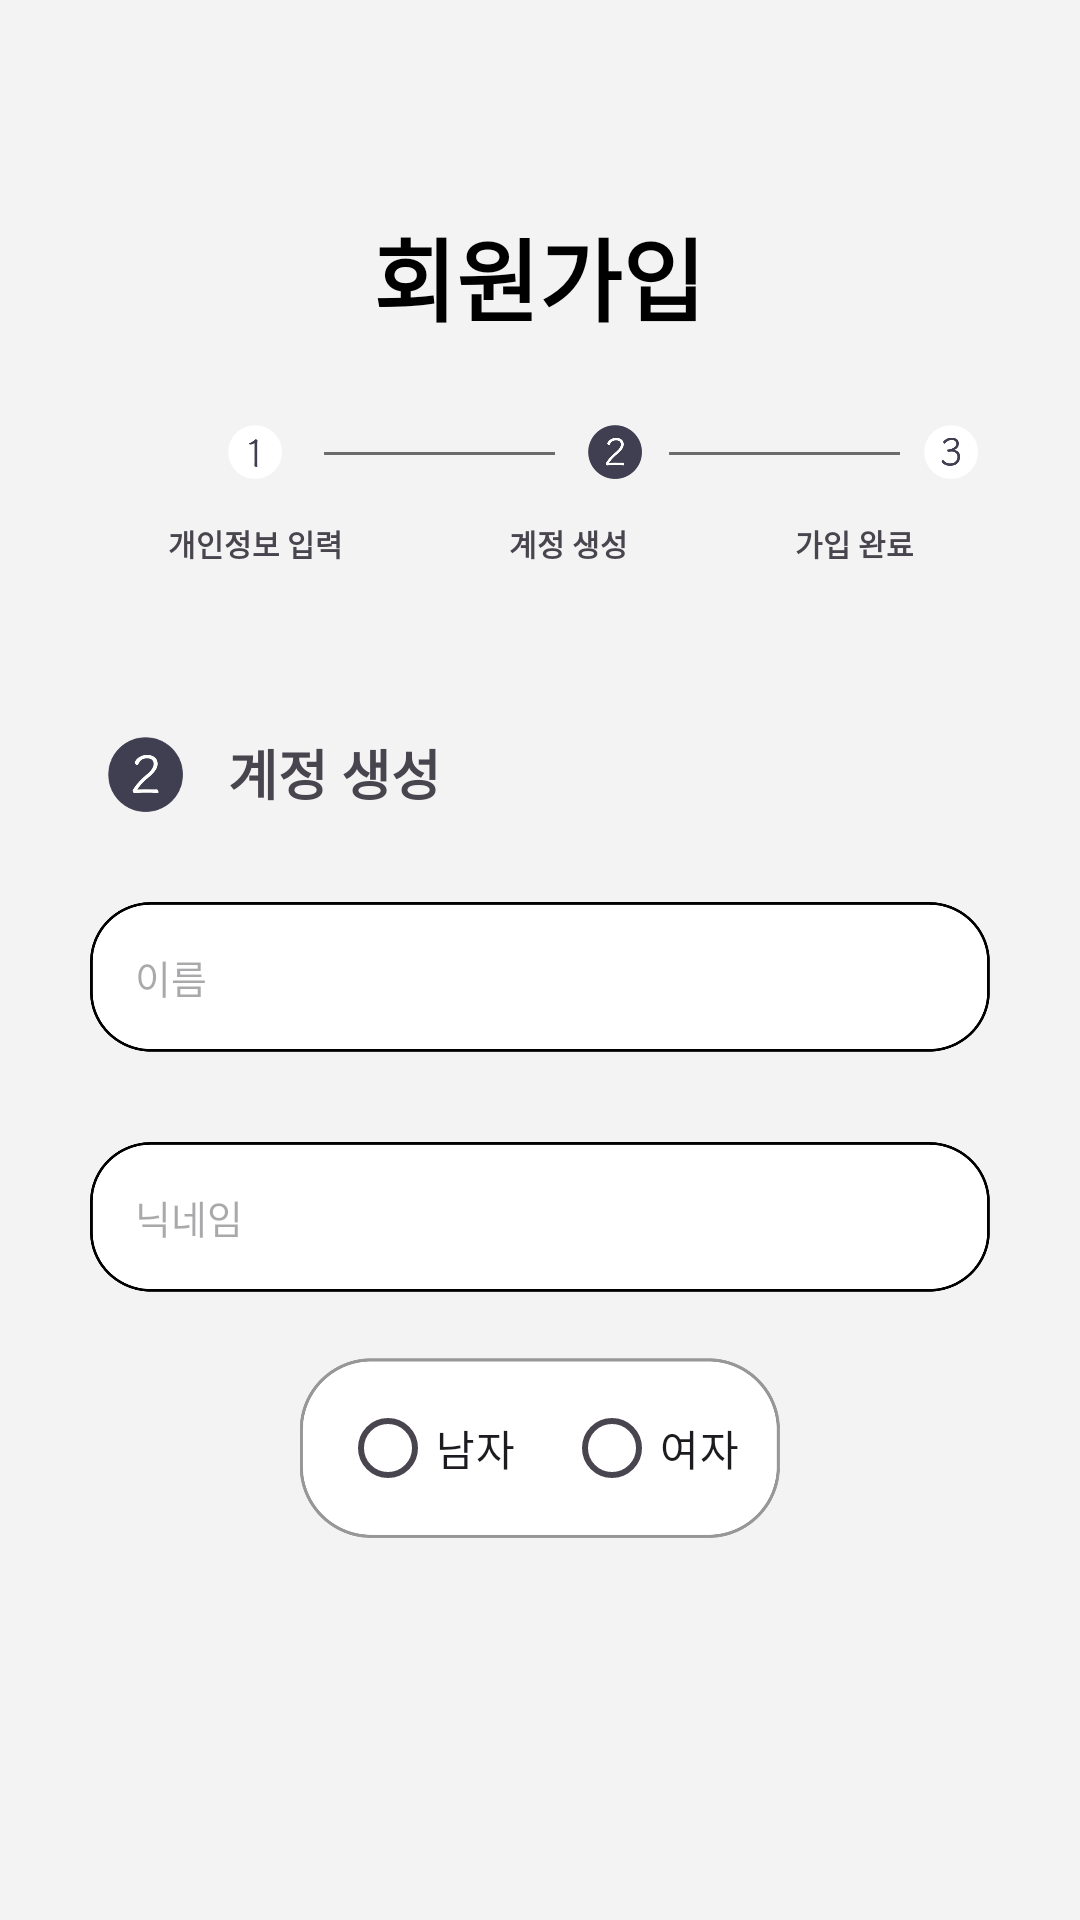

Locate icon controls on the screen. Image size 1080 x 1920, boxes as (x1, y1, x2, y2).
step bcircle: (588, 425, 642, 479), (108, 737, 183, 812)
step wcircle: (228, 425, 282, 479), (924, 425, 978, 479)
